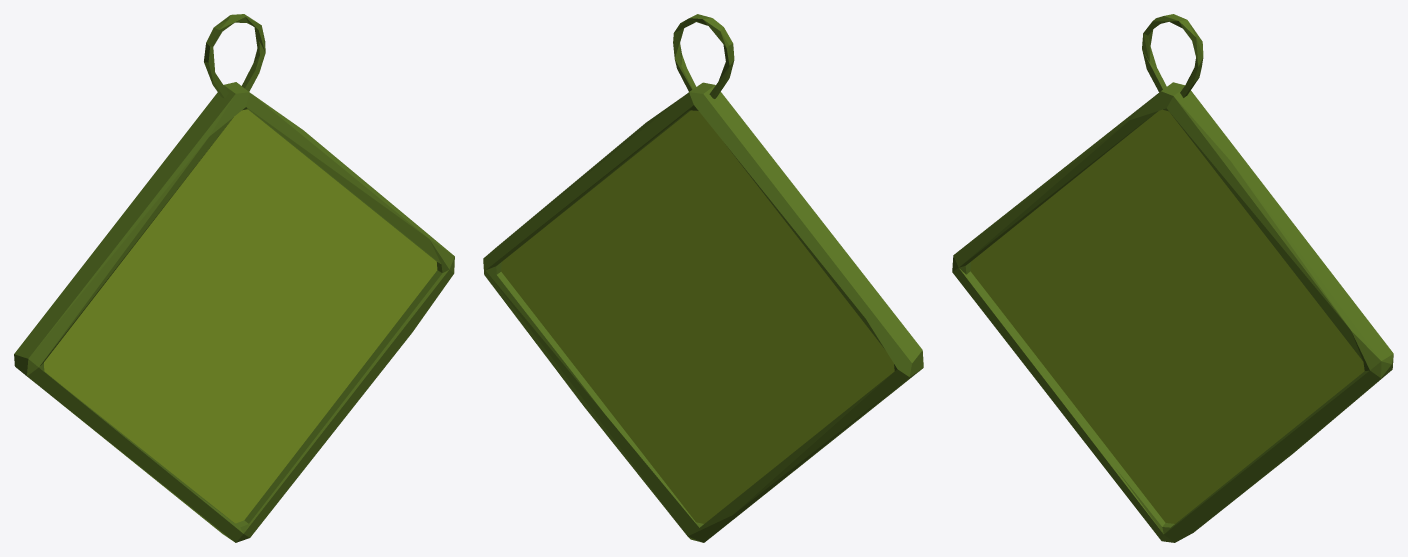
File: Potholder01.fbx
The picture shows the model from 3 angles, left to right: view 1: azimuth 30°, elevation 25°; view 2: azimuth 150°, elevation 25°; view 3: azimuth 330°, elevation 25°; orthographic projection.
Visible parts, largest first — view 1: Potholder01LowPoly; view 2: Potholder01LowPoly; view 3: Potholder01LowPoly.
Part boxes in pixels (bbox=[...]): Potholder01LowPoly: bbox=[14, 14, 454, 542]; Potholder01LowPoly: bbox=[483, 14, 923, 542]; Potholder01LowPoly: bbox=[952, 14, 1393, 542].
Bounding box in the file's own units: 17.52 × 20.23 × 1.27.
